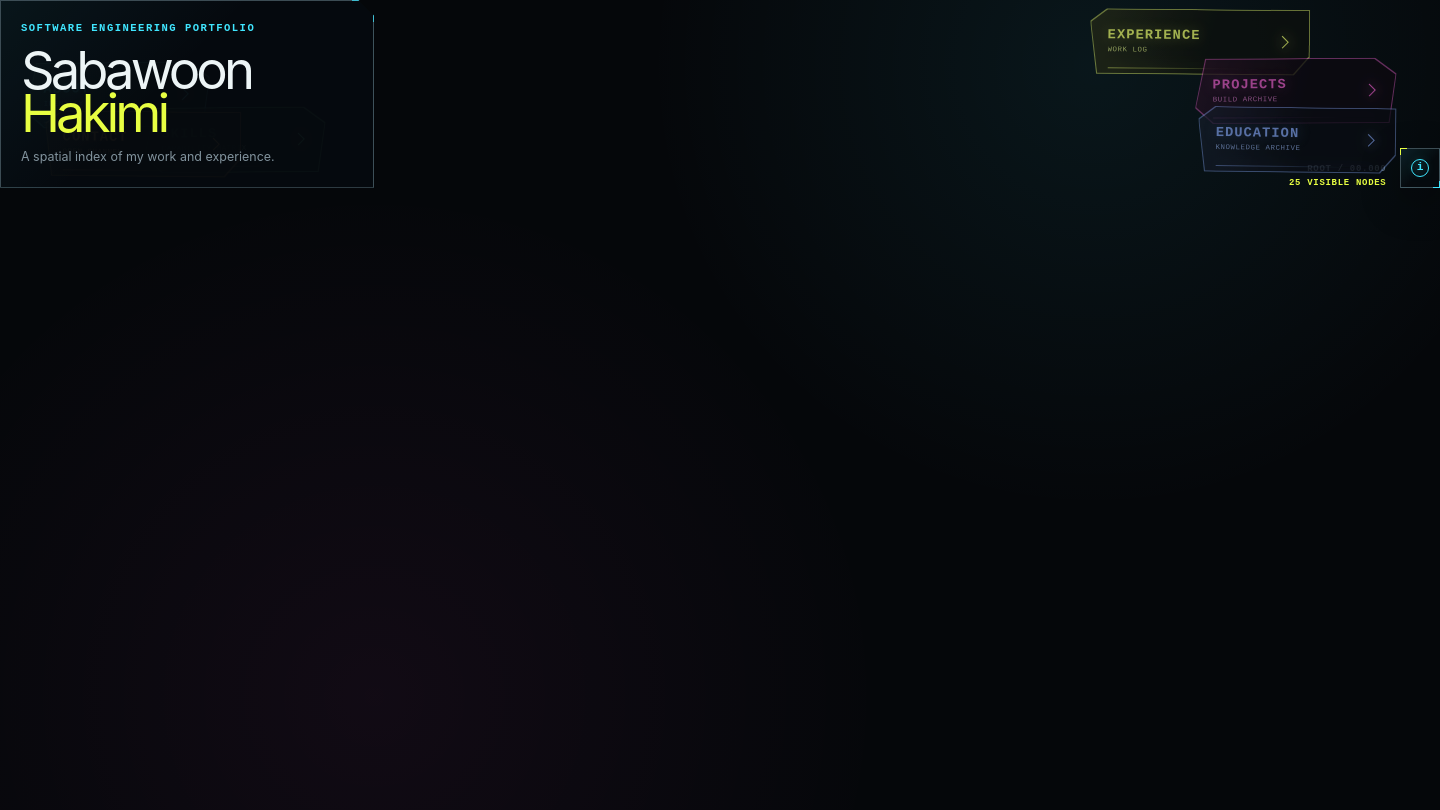
Test: home page › describes the Phase 2 inspection and activation controls
The image size is (1440, 810).
Click the heading named "Inspection controls" at (1420, 168), box x1=1400 y1=148 x2=1439 y2=188
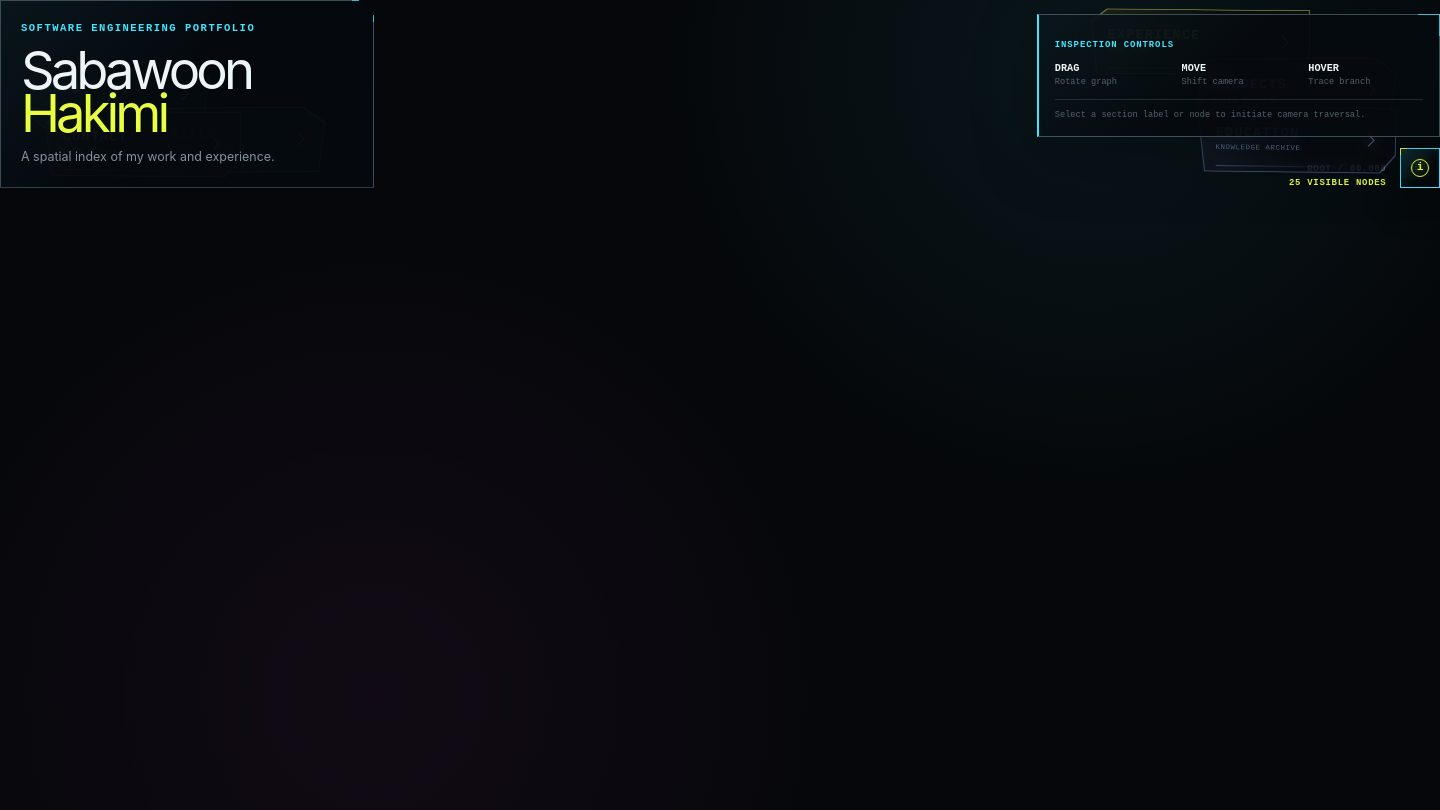
Expected: the text "Drag" is shown, x1=1055 y1=62 x2=1079 y2=74
Expected: the text "Select a section label or node to initiate camera traversal." is shown, x1=1055 y1=99 x2=1423 y2=122
